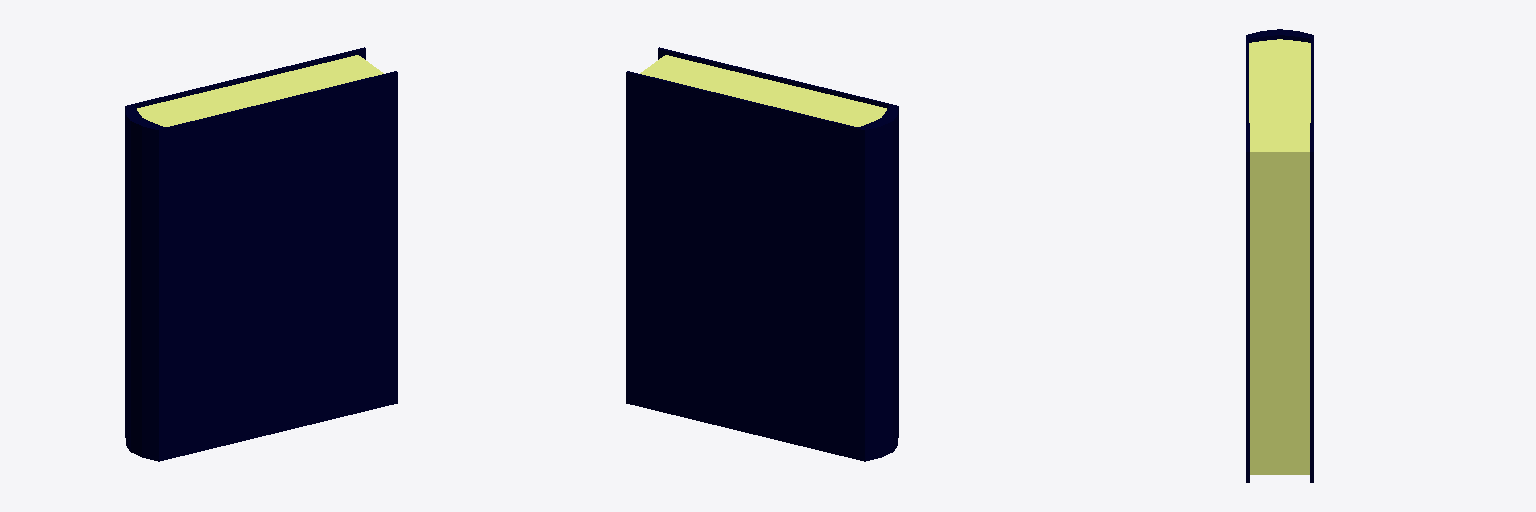
Rendered from Book_01.obj.
3 renders of one model, left to right at view 1: azimuth 30°, elevation 25°; view 2: azimuth 150°, elevation 25°; view 3: azimuth 270°, elevation 25°, orthographic.
Visible parts, largest first — view 1: Book_01_Cube.001; view 2: Book_01_Cube.001; view 3: Book_01_Cube.001.
Boxes of the visible parts, x1=… form: Book_01_Cube.001: x1=125, y1=47, x2=397, y2=461; Book_01_Cube.001: x1=626, y1=47, x2=898, y2=461; Book_01_Cube.001: x1=1246, y1=29, x2=1313, y2=482.
Size of the model in its own units: 8.6 by 10.86 by 2.